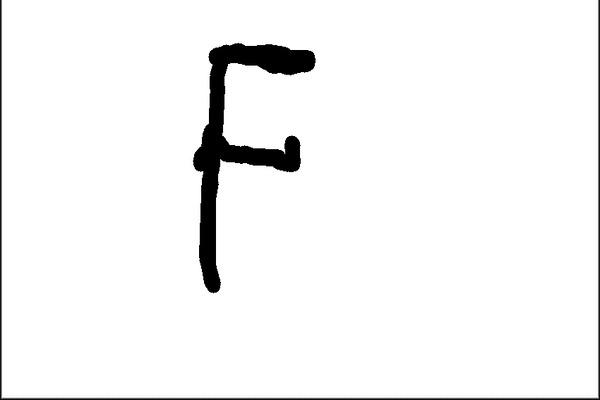F: (189, 38, 318, 297)
